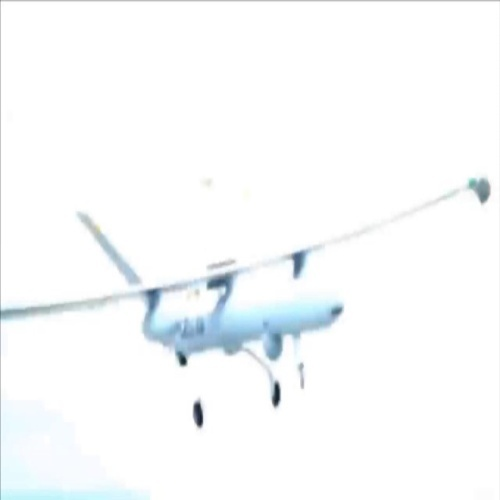uav: (4, 176, 500, 429)
